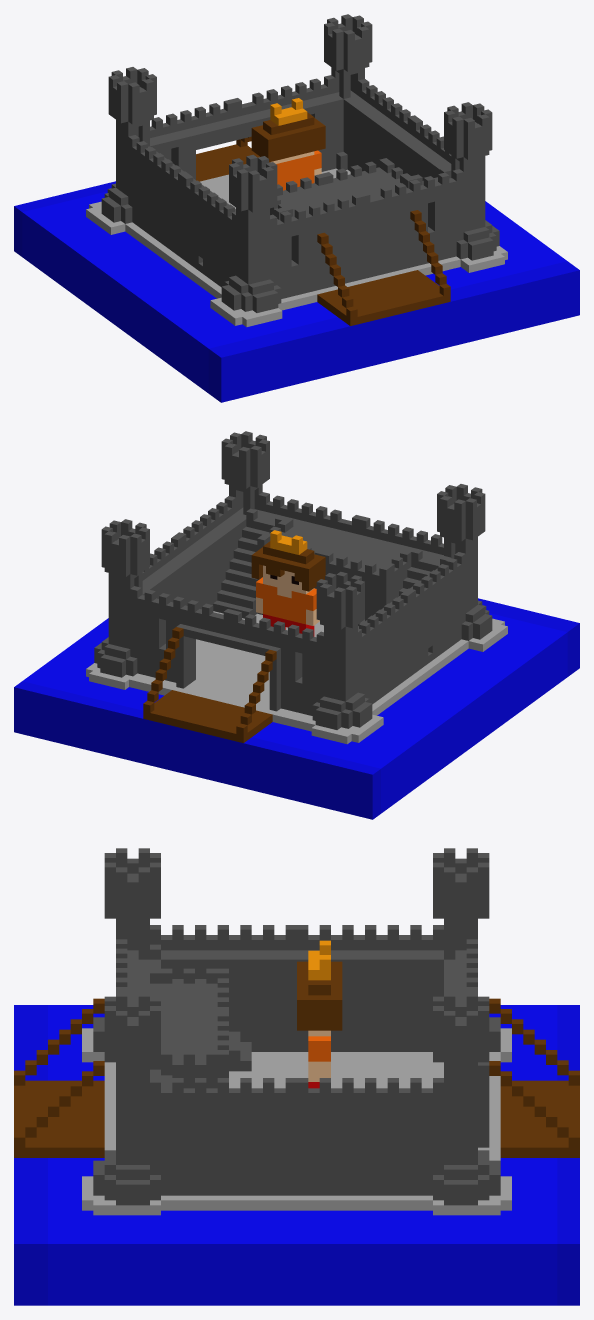
The model's file is castillo.glb.
3 renders of one model, top to bottom at view 1: azimuth 30°, elevation 25°; view 2: azimuth 150°, elevation 25°; view 3: azimuth 270°, elevation 25°, orthographic. The views are drawn at different scales.
Visible parts, largest first — view 1: o; view 2: o; view 3: o.
Boxes of the visible parts, x1,y1,x2,y2 form: o: (14,14,579,402); o: (14,431,579,819); o: (14,848,579,1305).
Size of the model in its own units: 5 by 2.5 by 5.
Materials: 1 (1 with a texture image).
